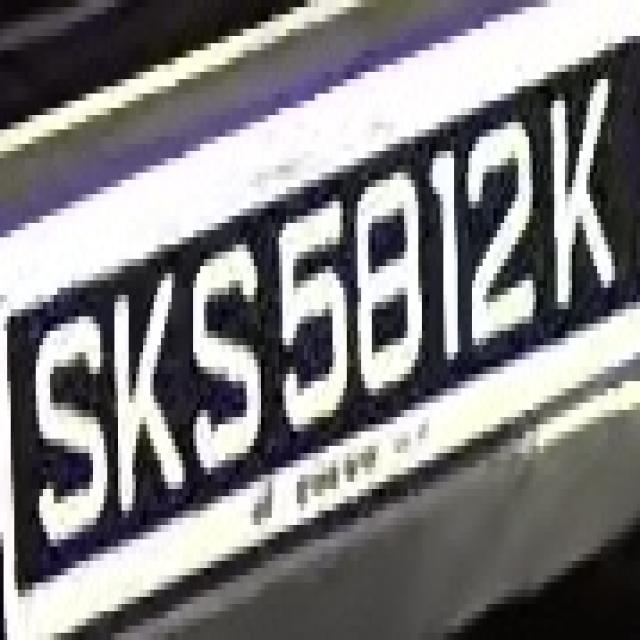1: (422, 129, 468, 403)
2: (461, 115, 540, 352)
5: (275, 165, 354, 446)
8: (347, 158, 425, 424)
K: (107, 230, 193, 532), (544, 57, 622, 331)
S: (25, 295, 114, 554), (178, 245, 264, 496)
